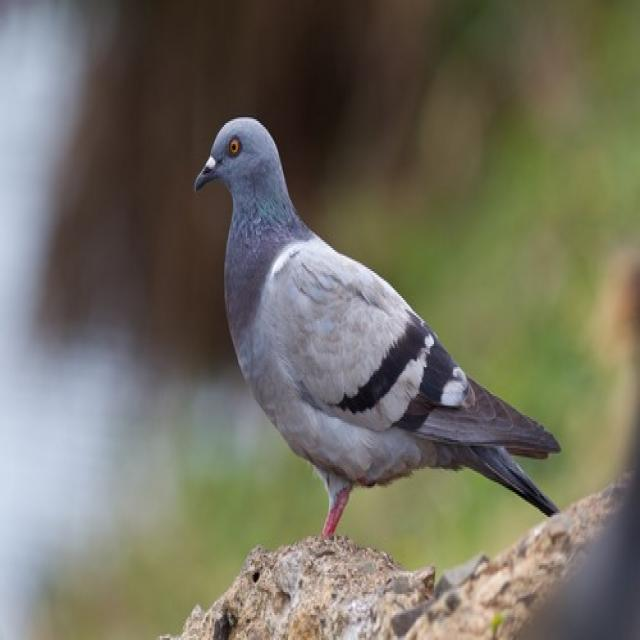bird: (190, 113, 570, 568)
